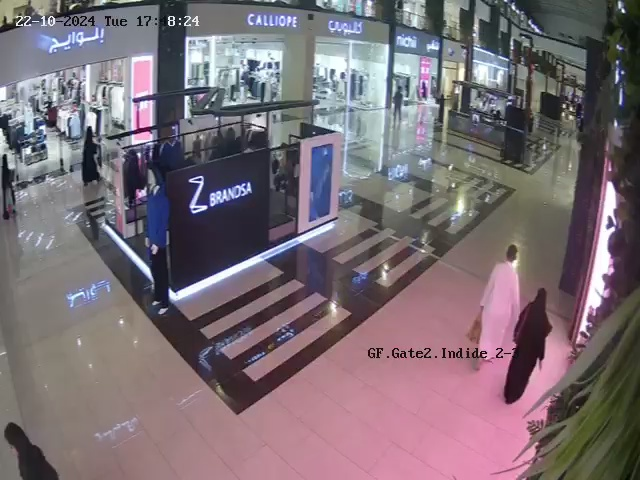female: (490, 287, 559, 397), (72, 116, 113, 195), (392, 86, 404, 123)
male: (472, 229, 522, 355)
other: (145, 161, 170, 314)
